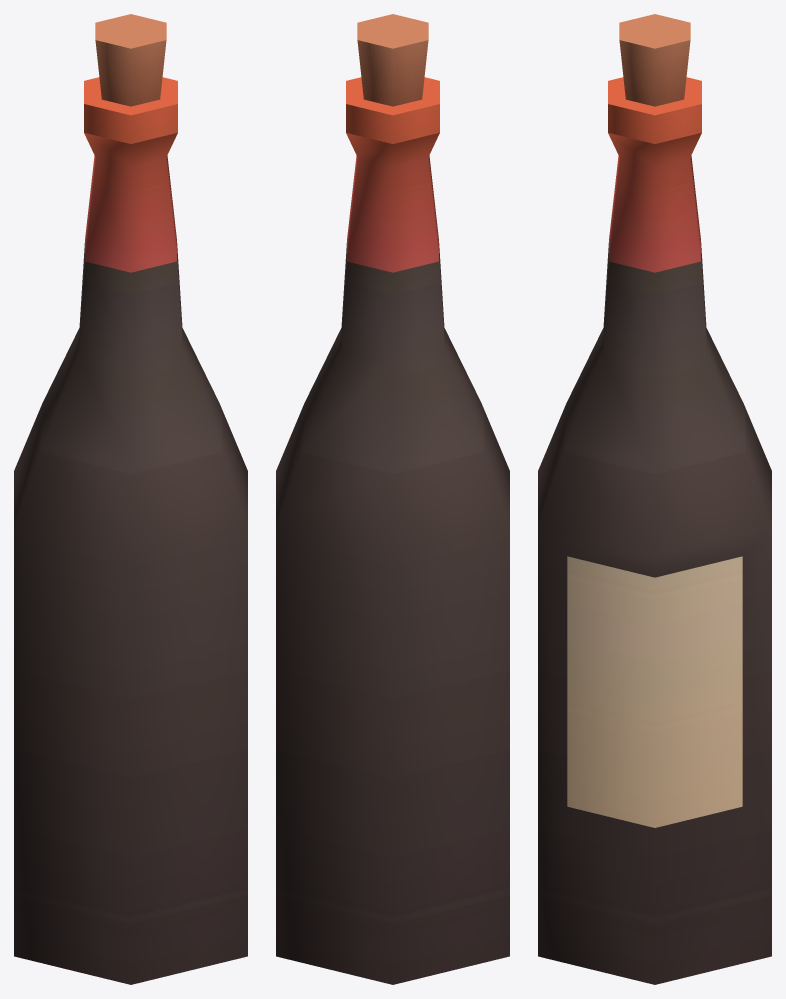
Rendered from wine-red.glb.
3 renders of one model, left to right at view 1: azimuth 30°, elevation 25°; view 2: azimuth 150°, elevation 25°; view 3: azimuth 270°, elevation 25°, orthographic.
Visible parts, largest first — view 1: wine-red; view 2: wine-red; view 3: wine-red.
Boxes of the visible parts, <box> form: wine-red: <box>14,14,247,984</box>; wine-red: <box>276,14,509,984</box>; wine-red: <box>538,14,771,984</box>.
Size of the model in its own units: 0.1908 by 0.6989 by 0.1653.
Materials: 1 (1 with a texture image).
